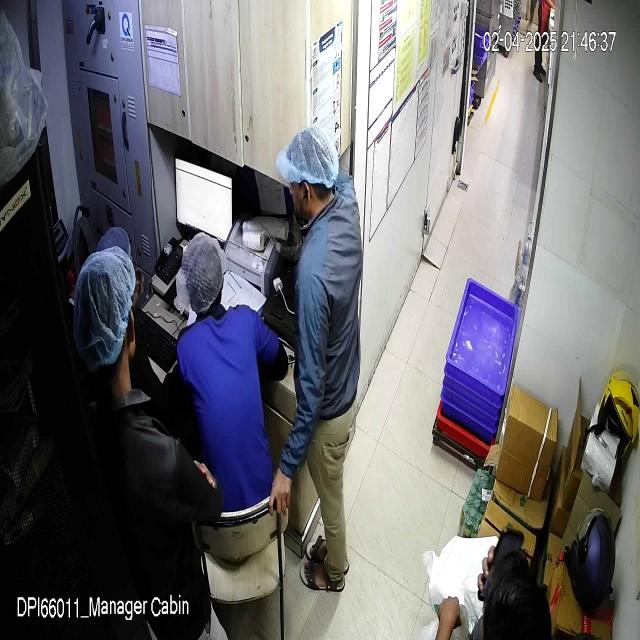helmet: (566, 507, 616, 611), (596, 370, 640, 460)
no_helmet: (73, 246, 137, 401), (277, 127, 339, 221), (181, 232, 226, 315)
